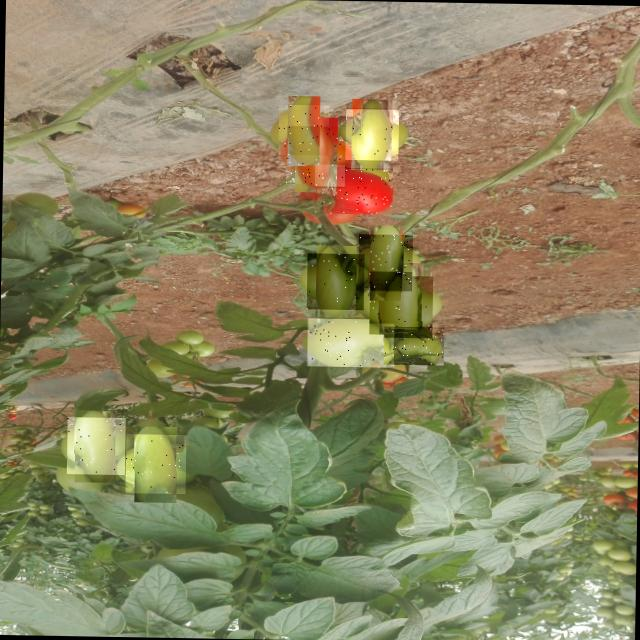Ripe Tomato: (314, 164, 393, 213), (286, 126, 346, 184)
Unripe Tomato: (304, 318, 394, 368), (369, 272, 433, 334), (125, 434, 186, 494), (66, 416, 126, 474), (306, 253, 364, 310), (345, 105, 399, 160), (358, 234, 412, 288), (278, 104, 329, 155), (383, 324, 444, 364)
